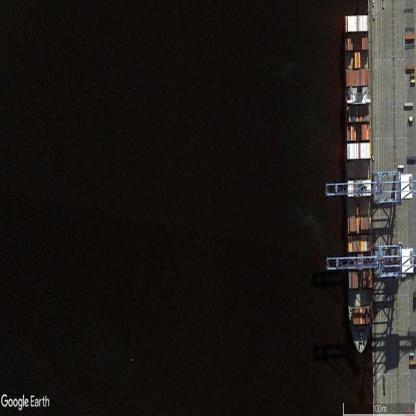ship: (343, 13, 371, 353)
